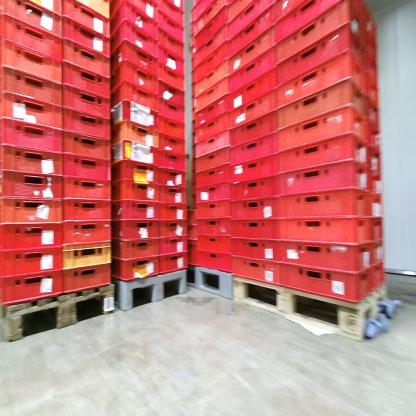pallet: (232, 274, 391, 359), (0, 280, 115, 345), (110, 270, 190, 316), (184, 264, 240, 311)
small_load_carrier: (274, 52, 365, 116), (277, 2, 362, 67), (278, 23, 361, 89), (277, 74, 366, 132), (276, 130, 367, 179), (274, 215, 373, 257), (277, 105, 369, 148), (277, 185, 370, 226), (273, 239, 376, 273), (278, 164, 372, 197), (0, 13, 64, 60), (275, 2, 344, 45), (2, 37, 62, 86), (228, 1, 276, 59), (1, 67, 64, 108), (226, 43, 277, 93), (0, 268, 63, 308), (2, 91, 63, 131), (1, 115, 63, 154), (62, 12, 109, 63), (228, 22, 275, 73), (1, 1, 64, 38), (231, 65, 277, 112), (111, 38, 157, 82), (2, 247, 62, 280), (111, 19, 157, 62), (229, 91, 277, 132), (1, 144, 64, 175), (62, 261, 113, 299), (1, 222, 63, 253), (64, 37, 109, 79), (112, 2, 157, 44), (193, 5, 230, 56), (1, 198, 63, 228), (2, 169, 64, 198), (64, 60, 110, 99), (230, 171, 277, 209), (57, 238, 111, 271), (62, 1, 110, 38), (231, 111, 278, 148), (226, 0, 274, 36), (62, 107, 111, 142), (111, 61, 157, 97), (104, 256, 161, 285), (62, 216, 112, 249), (63, 84, 110, 119), (63, 151, 111, 185), (232, 154, 279, 188), (232, 252, 280, 285), (111, 154, 160, 186), (62, 196, 112, 227), (232, 132, 276, 167), (111, 80, 157, 113), (195, 23, 229, 67), (61, 129, 109, 160), (194, 40, 228, 83), (230, 194, 277, 225), (230, 215, 277, 246), (230, 236, 278, 264), (112, 100, 158, 129), (63, 175, 112, 202), (112, 141, 159, 168), (194, 59, 227, 97), (111, 176, 159, 202), (110, 120, 158, 146), (112, 219, 160, 244), (112, 198, 160, 223), (156, 24, 185, 65), (195, 110, 228, 146), (194, 96, 230, 129), (195, 144, 232, 175), (195, 77, 228, 111), (194, 1, 227, 34), (195, 162, 232, 191), (195, 127, 232, 156), (110, 1, 157, 23), (112, 239, 161, 260), (155, 10, 184, 43), (196, 180, 231, 207), (156, 61, 183, 95), (275, 1, 312, 24), (196, 197, 231, 221), (157, 44, 185, 73), (156, 165, 188, 190), (157, 81, 184, 110), (197, 234, 232, 256), (198, 251, 231, 274), (157, 199, 187, 224), (156, 131, 187, 155), (19, 1, 65, 17), (197, 216, 232, 237), (157, 183, 186, 208), (157, 2, 184, 28), (158, 97, 185, 123), (155, 113, 184, 137), (157, 149, 186, 173), (158, 233, 187, 256), (158, 253, 187, 275), (158, 218, 187, 239), (366, 75, 381, 112), (366, 25, 380, 64), (366, 49, 379, 89), (367, 143, 383, 174), (370, 187, 385, 220), (367, 99, 383, 129), (368, 114, 380, 151), (193, 1, 214, 22), (368, 166, 382, 196), (229, 1, 254, 17), (371, 218, 383, 248), (374, 241, 386, 270), (187, 242, 200, 267), (164, 0, 186, 14), (187, 226, 201, 242), (188, 209, 201, 226), (193, 144, 197, 160)
